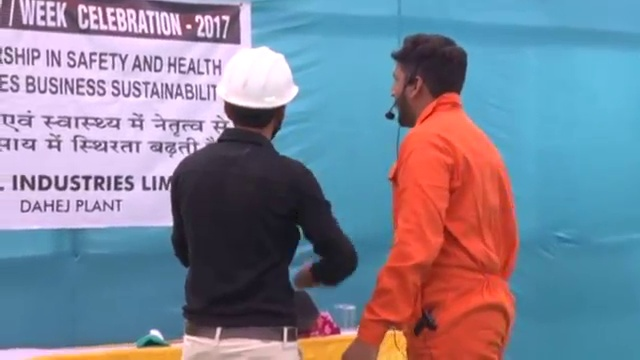helmet: (215, 46, 299, 107)
helmet_off: (386, 33, 468, 130)
helmet_on: (214, 45, 299, 142)
person: (168, 45, 355, 360), (344, 31, 520, 360)
